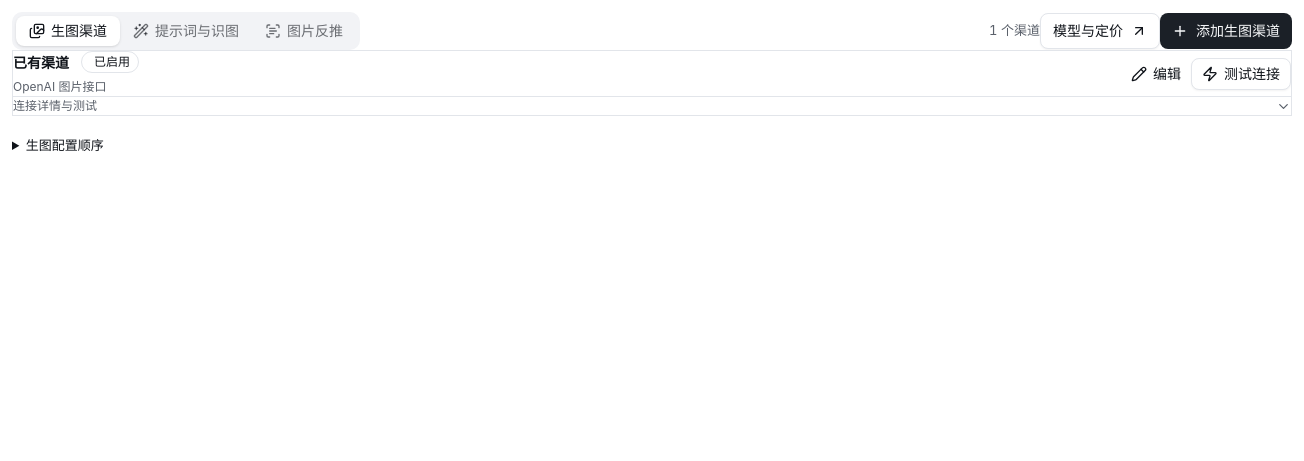
Test: keeps the full API address available in the collapsed connection details
Click the heading "连接详情与测试" at point(55, 106), box [13, 97, 1291, 115]
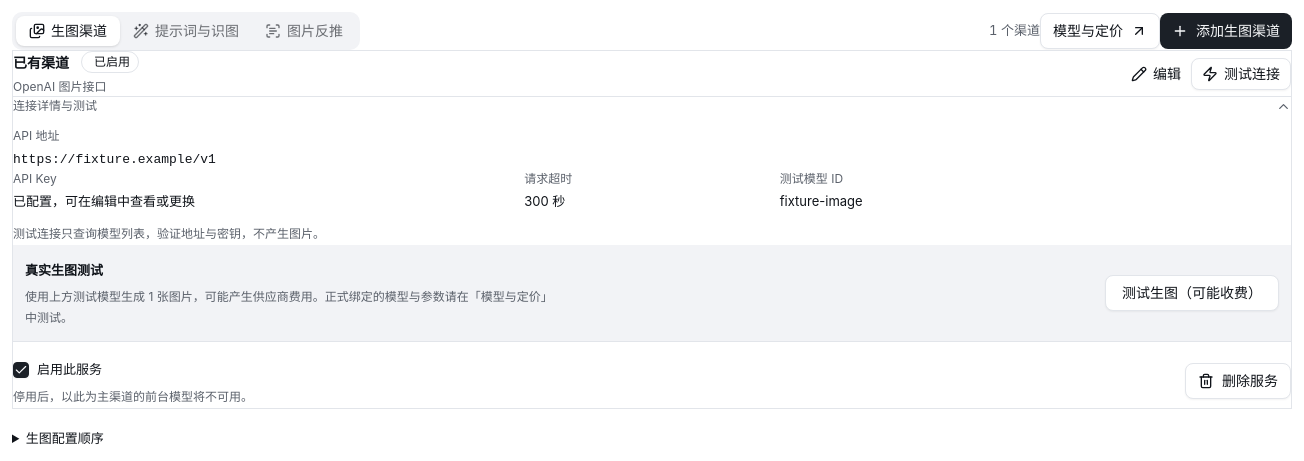
Now the text "https://fixture.example/v1" is shown, box [13, 152, 216, 167]
